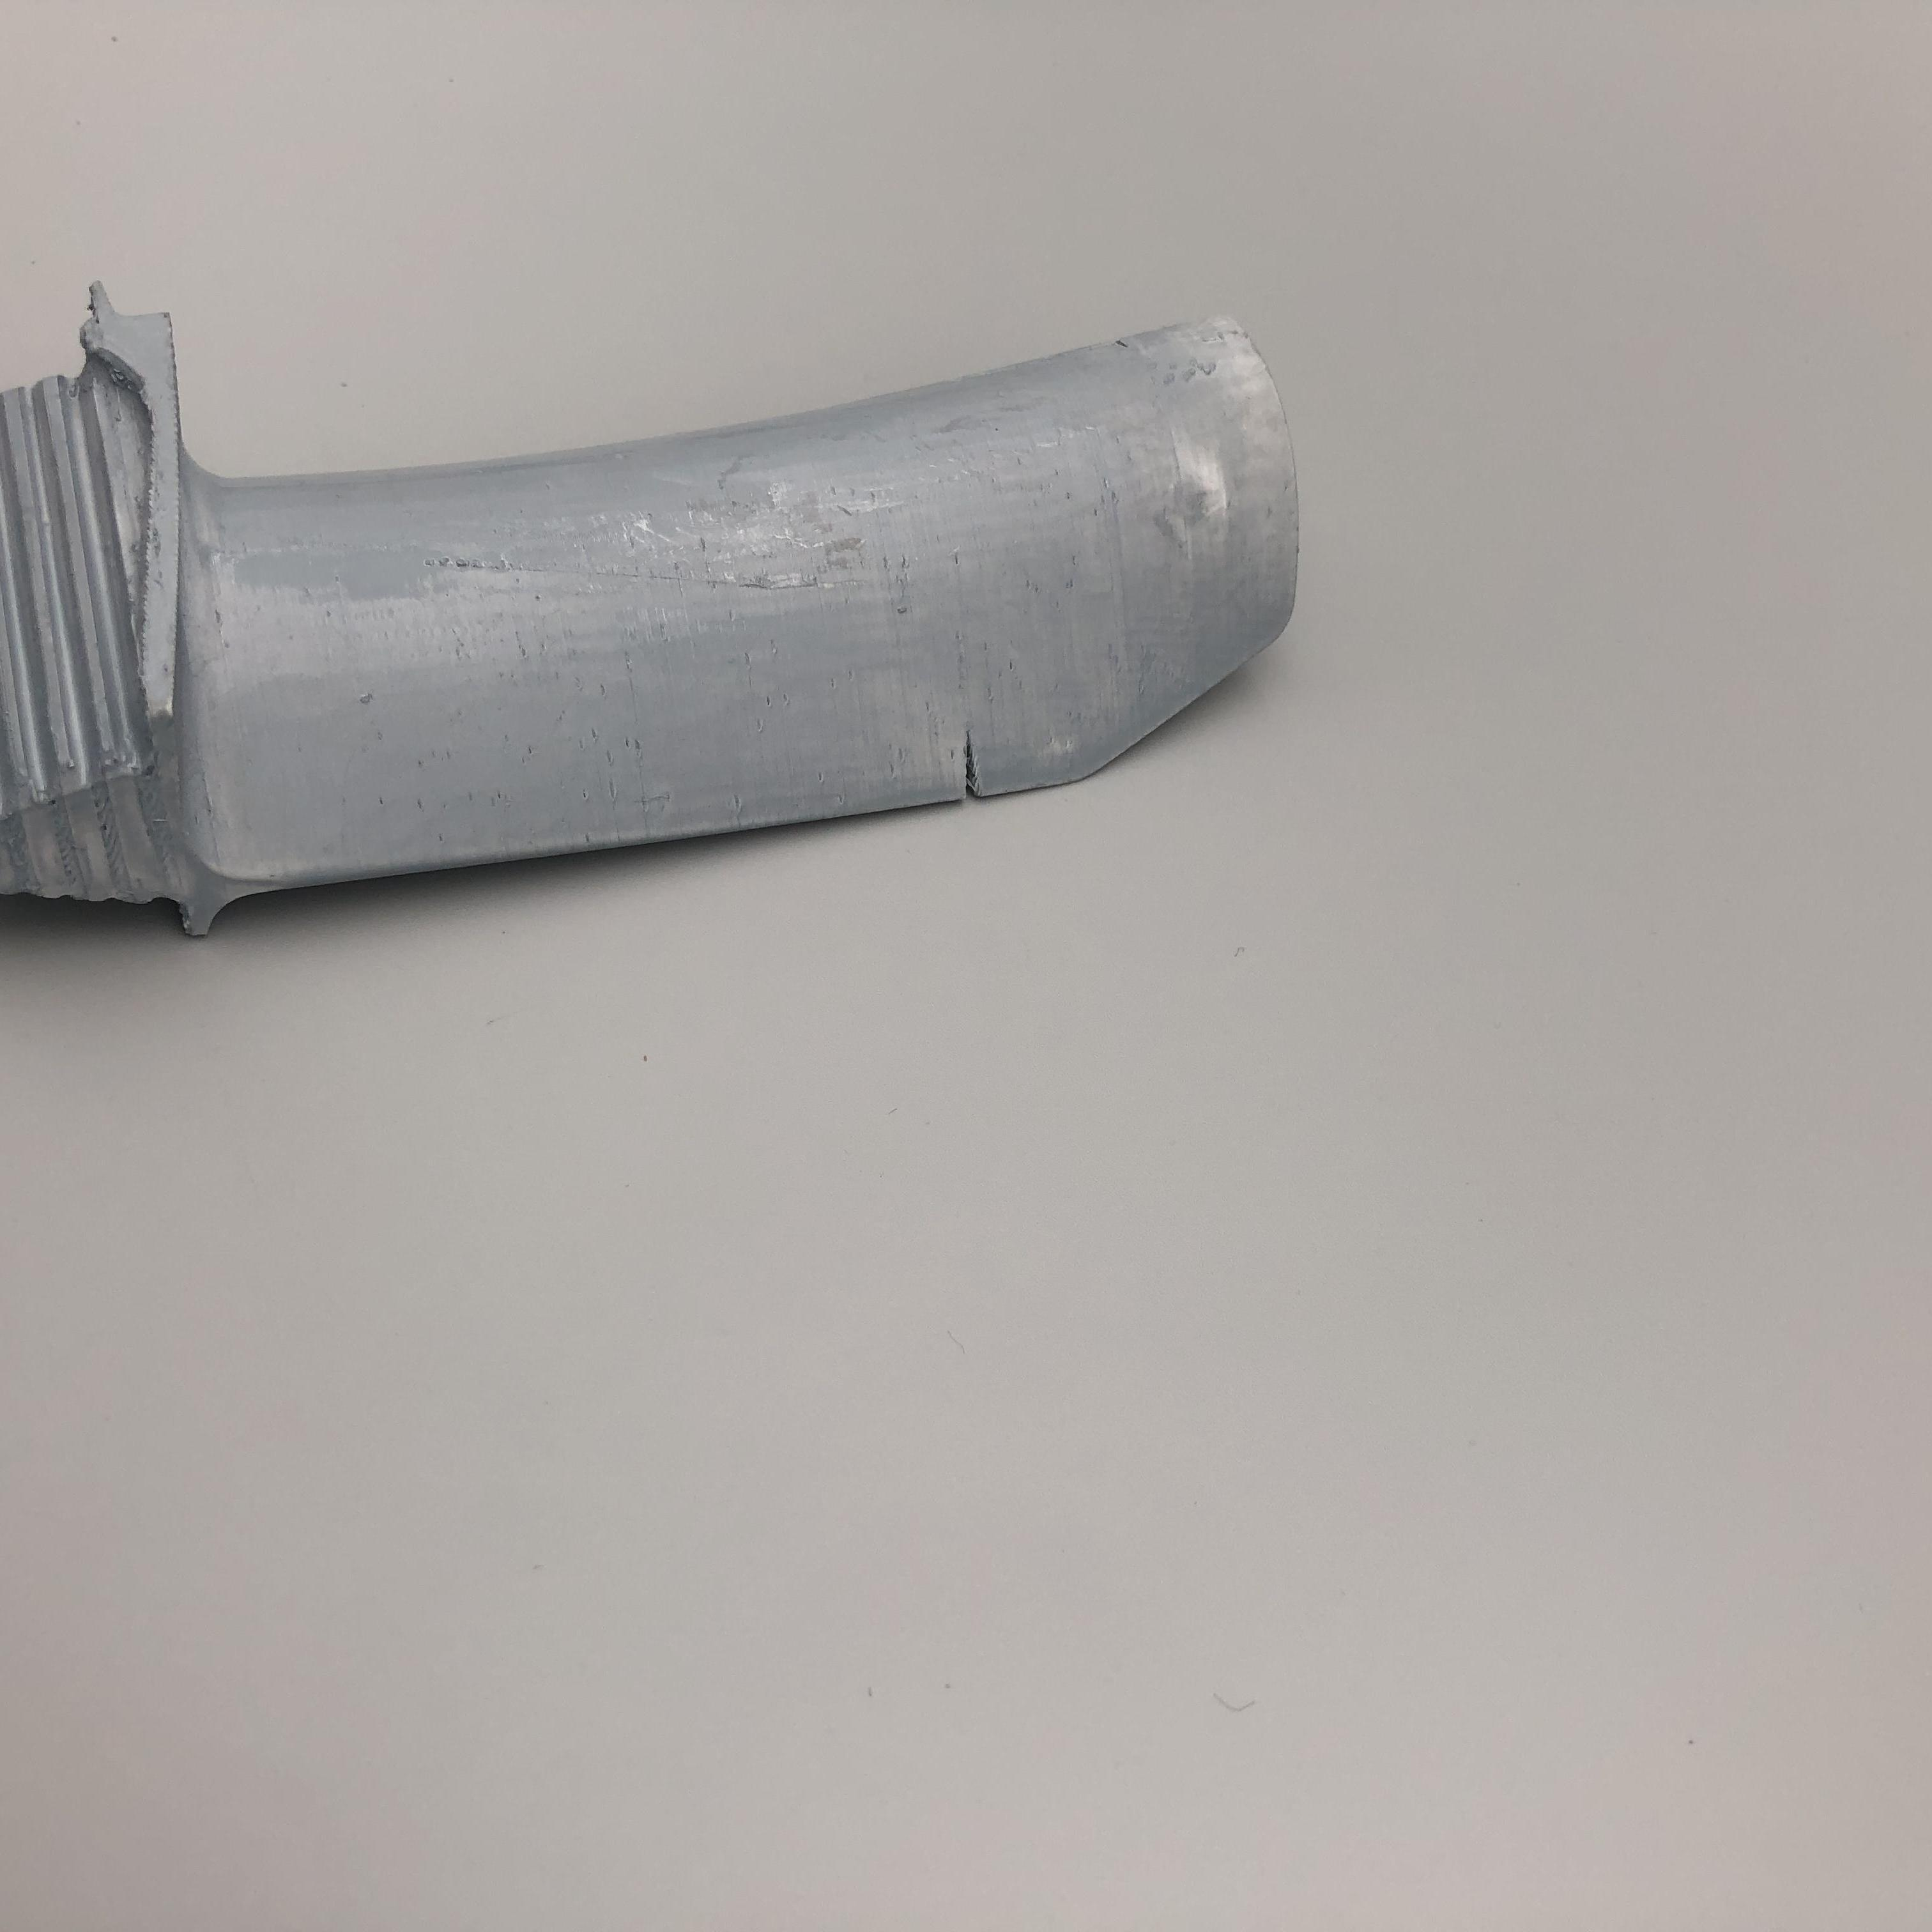groove: (950, 734, 1007, 796)
